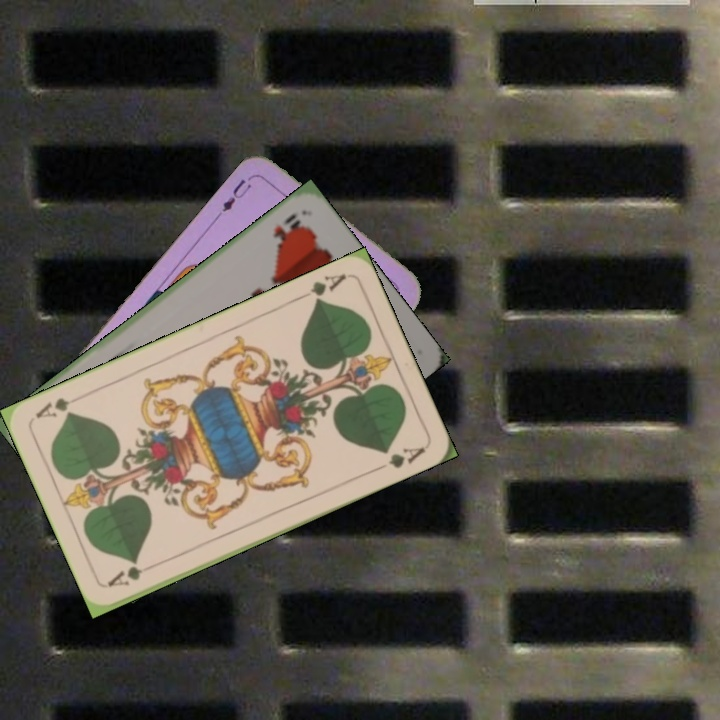EU: (214, 170, 259, 219)
GA: (294, 269, 349, 306), (104, 558, 160, 590)
HO: (269, 209, 306, 249)
